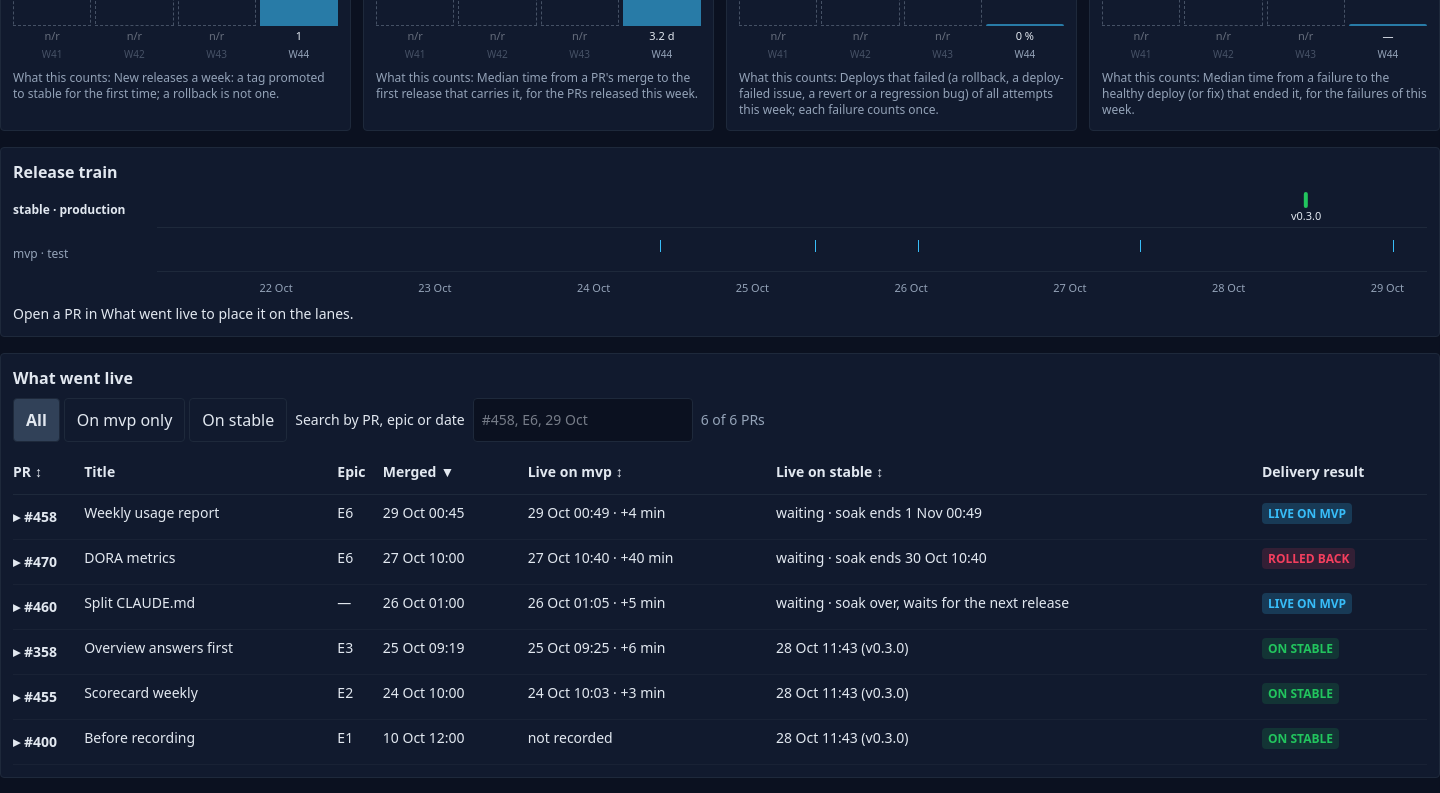
Test case: Scenario: Delivery opens on stable; PR #358 opened › its dots sit at 25 Oct 09:25 on mvp and 28 Oct 11:43 (v0.3.0) on stable, and the line says so
This screenshot has width=1440, height=793.
(page scrolled)
expect the text "Open a PR in What went live to place it on the lanes." is shown: met, box x1=13 y1=304 x2=354 y2=322
Click the button "▸ #358".
click(35, 652)  # box x1=13 y1=630 x2=57 y2=674
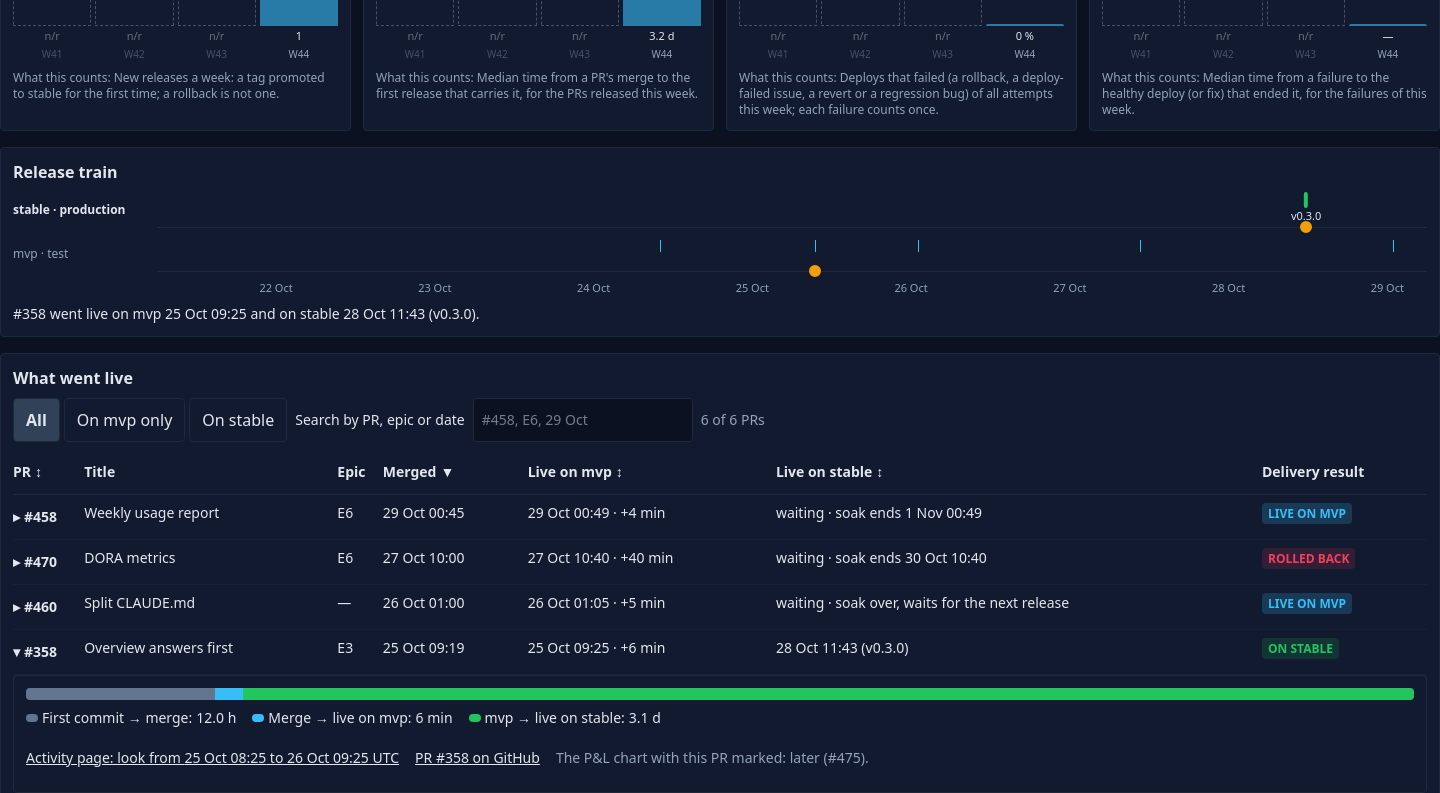
expect the picture named "stable · production: 1 release in the last 8 days; v0.3.0 28 Oct 11:43; #358 live 28 Oct 11:43" is shown: met, box x1=157 y1=192 x2=1427 y2=228
expect the text "#358 went live on mvp 25 Oct 09:25 and on stable 28 Oct 11:43 (v0.3.0)." is shown: met, box x1=13 y1=304 x2=480 y2=322
